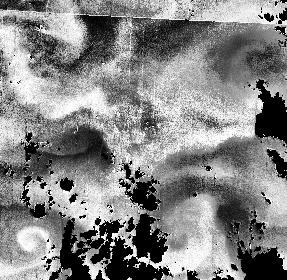CE: (14, 227, 56, 265)
